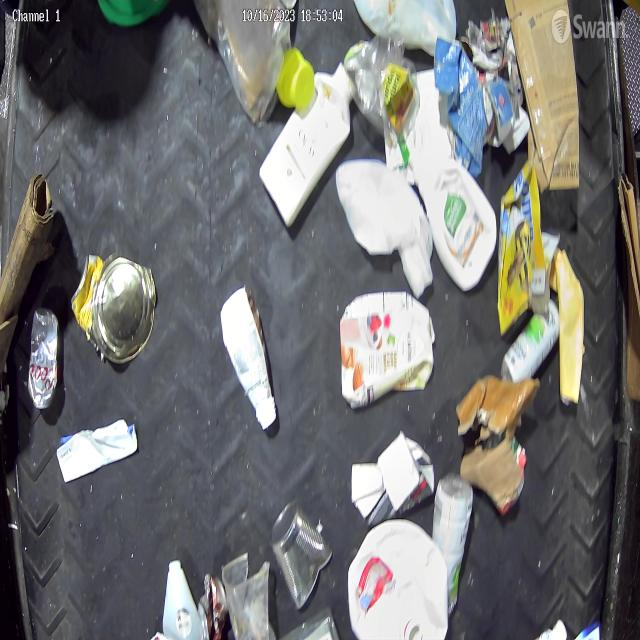can: (71, 254, 157, 364), (272, 503, 334, 609), (198, 575, 228, 640)
milk_jug: (336, 162, 434, 298), (407, 146, 497, 292), (348, 517, 450, 640), (354, 0, 456, 47)
plastic_bottle: (28, 309, 58, 410)
